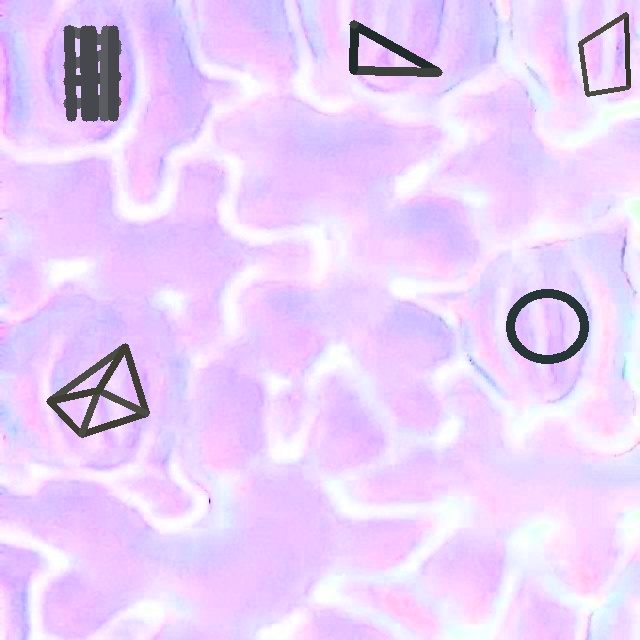close: (64, 25, 121, 120)
open: (46, 343, 149, 437), (505, 287, 589, 364), (350, 20, 442, 73), (579, 13, 630, 96)
